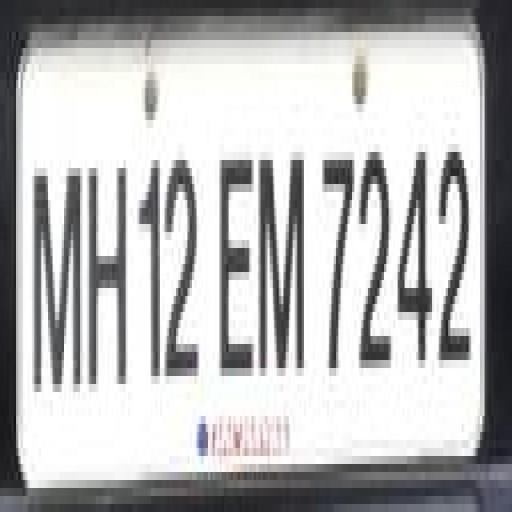number plate: (4, 0, 487, 488)
